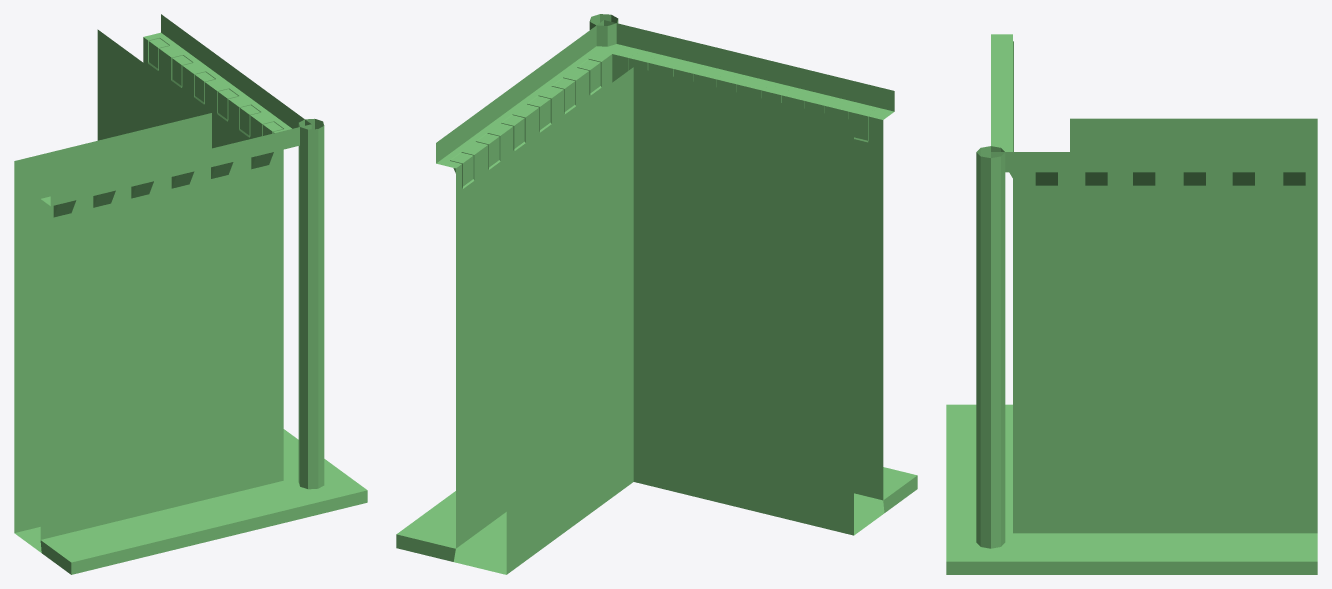
File: Bld3_Wall_Cor.fbx
The picture shows the model from 3 angles, left to right: view 1: azimuth 30°, elevation 25°; view 2: azimuth 150°, elevation 25°; view 3: azimuth 270°, elevation 25°; orthographic projection. The views are drawn at different scales.
Visible parts, largest first — view 1: Bld3_Wall_Cor; view 2: Bld3_Wall_Cor; view 3: Bld3_Wall_Cor.
Boxes of the visible parts, x1,y1,x2,y2 form: Bld3_Wall_Cor: (14, 14, 367, 574); Bld3_Wall_Cor: (396, 14, 917, 574); Bld3_Wall_Cor: (946, 34, 1317, 574).
Bounding box in the file's own units: 375 × 450 × 375.
